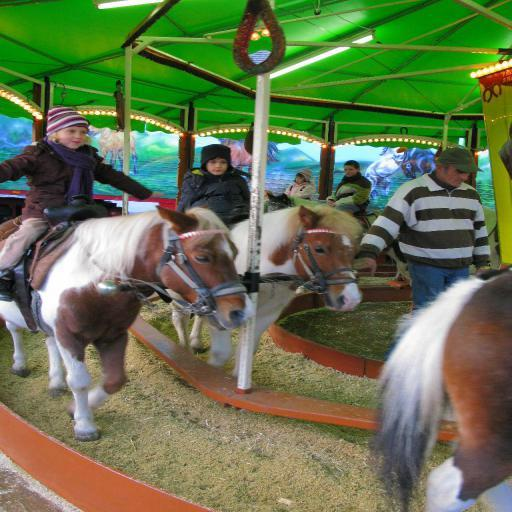Horse: (0, 205, 254, 442), (368, 266, 512, 512), (167, 203, 360, 369), (262, 192, 407, 286)
